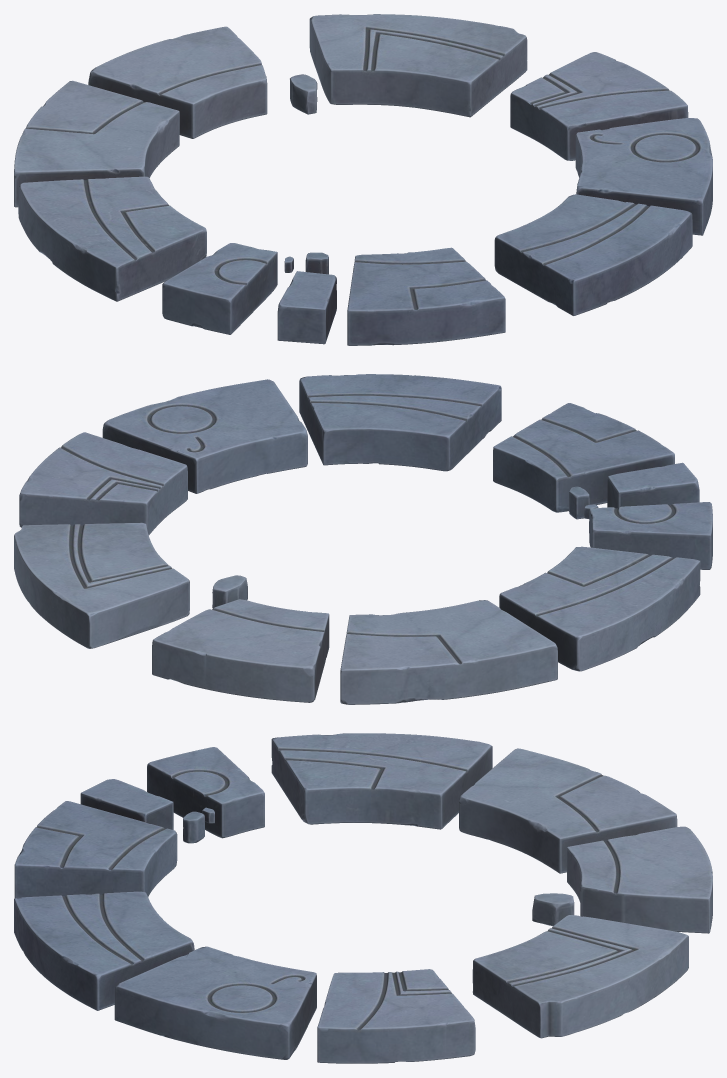
Rendered from sky_ring_03a.glb.
3 views of the same model, one above another, from view 1: azimuth 30°, elevation 25°; view 2: azimuth 150°, elevation 25°; view 3: azimuth 270°, elevation 25° (orthographic).
Parts seen in each view (by area): view 1: ring_03a; view 2: ring_03a; view 3: ring_03a.
Boxes of the visible parts, x1,y1,x2,y2 form: ring_03a: (14,14,712,345); ring_03a: (14,374,712,704); ring_03a: (14,733,712,1063).
Bounding box in the file's own units: 87.64 × 4.96 × 87.53.
Materials: 1 (1 with a texture image).
